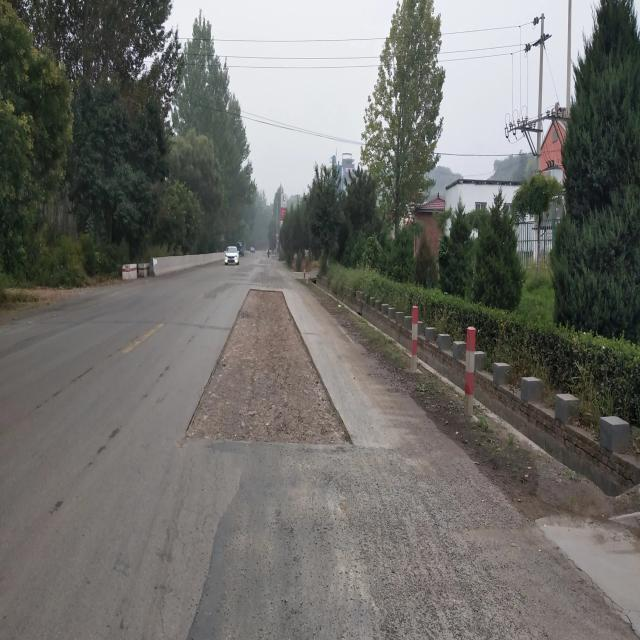Pothole: (188, 290, 348, 443)
